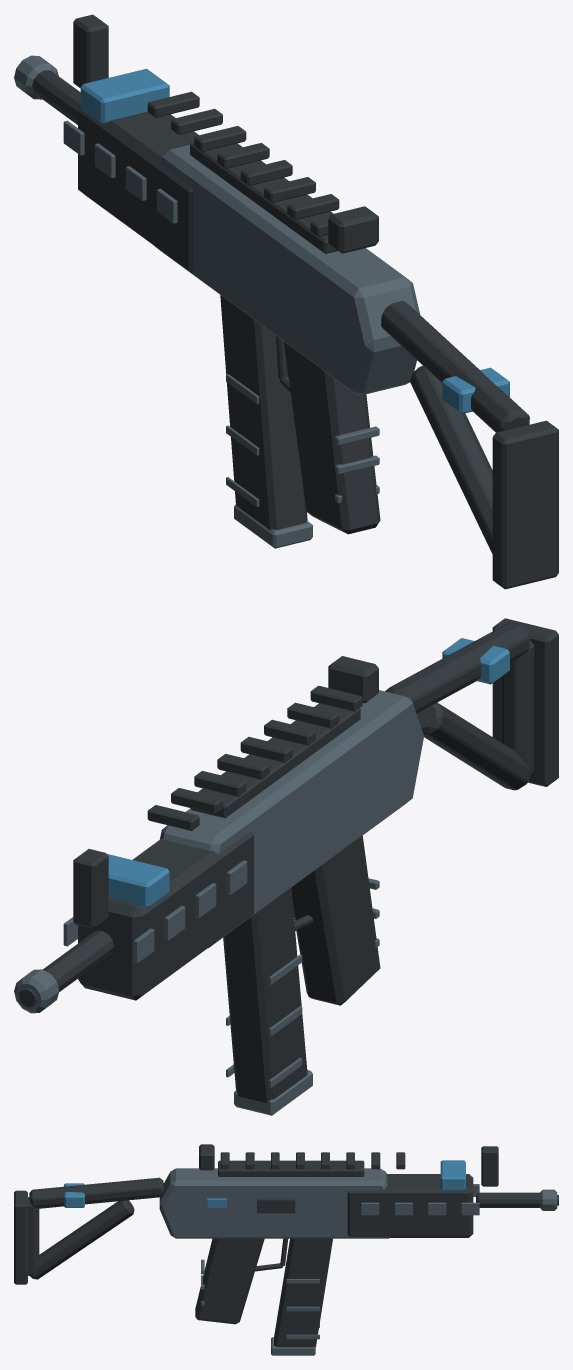
The model's file is wpn_006_a21_assault_rifle.glb.
3 renders of one model, top to bottom at view 1: azimuth 30°, elevation 25°; view 2: azimuth 150°, elevation 25°; view 3: azimuth 270°, elevation 25°, orthographic. The views are drawn at different scales.
Visible parts, largest first — view 1: Mesh; view 2: Mesh; view 3: Mesh.
Boxes of the visible parts, x1,y1,x2,y2 form: Mesh: (14, 14, 558, 589); Mesh: (14, 618, 558, 1115); Mesh: (14, 1144, 558, 1355).
Bounding box in the file's own units: 0.0664 × 0.3204 × 0.7816.
